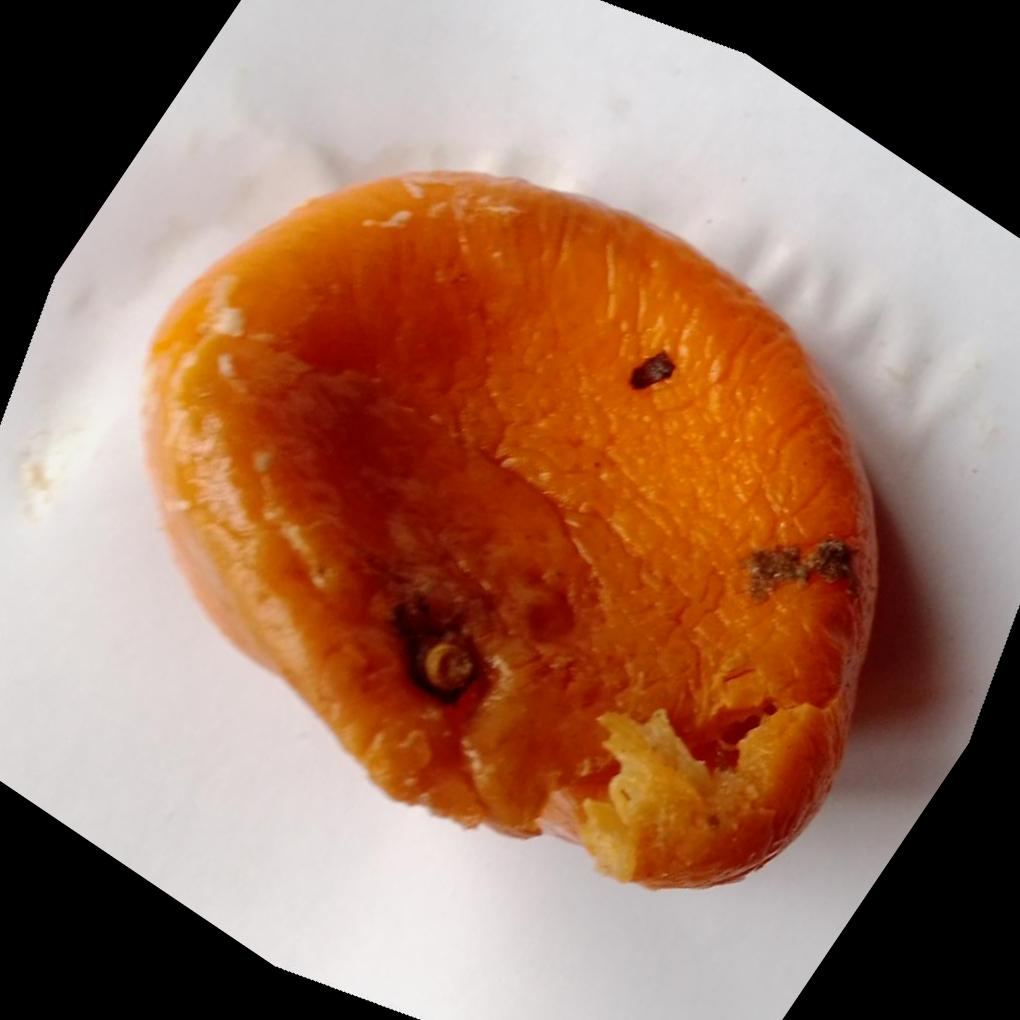FreshOrange: (135, 165, 878, 890)
